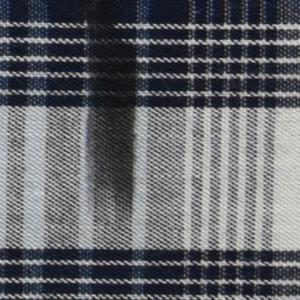Stain: (79, 1, 144, 221)
